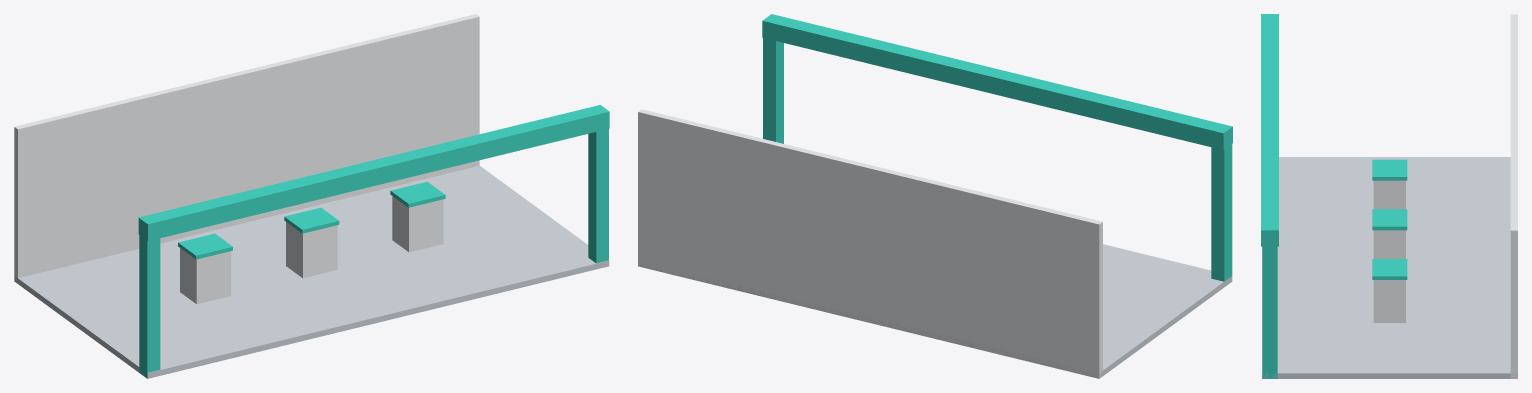
The picture shows the model from 3 angles, left to right: view 1: azimuth 30°, elevation 25°; view 2: azimuth 150°, elevation 25°; view 3: azimuth 270°, elevation 25°; orthographic projection. The views are drawn at different scales.
Parts seen in each view (by area): view 1: Exhibition Booth Concept; view 2: Exhibition Booth Concept; view 3: Exhibition Booth Concept.
Part boxes in pixels (left/top/right/bottom): Exhibition Booth Concept: left=14, top=14, right=609, bottom=378; Exhibition Booth Concept: left=638, top=14, right=1232, bottom=378; Exhibition Booth Concept: left=1261, top=14, right=1517, bottom=378.
Bounding box in the file's own units: 10 × 3.2 × 5.02.
